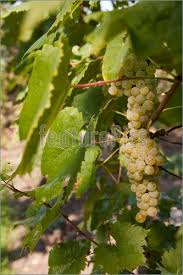grapes: (111, 60, 165, 223)
